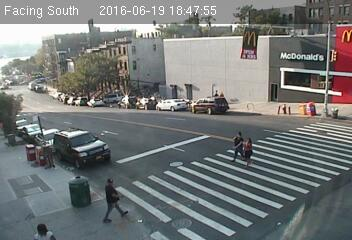neg: (305, 96, 323, 120), (123, 93, 139, 113), (278, 100, 290, 115)
pos: (94, 176, 126, 219), (236, 132, 262, 166), (224, 127, 247, 157), (35, 142, 55, 168), (35, 222, 48, 239), (212, 85, 220, 95), (220, 87, 227, 96)
